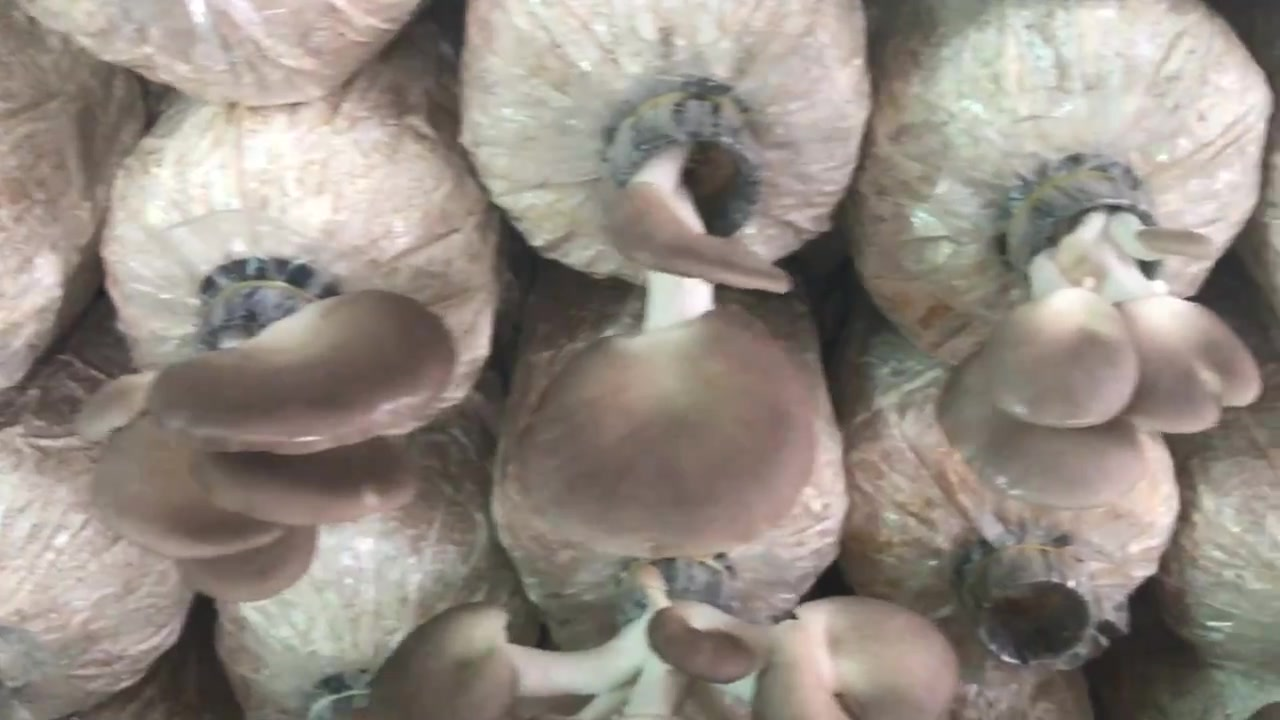nam: (518, 87, 823, 552), (80, 264, 459, 605), (932, 174, 1266, 509), (367, 557, 957, 717)
